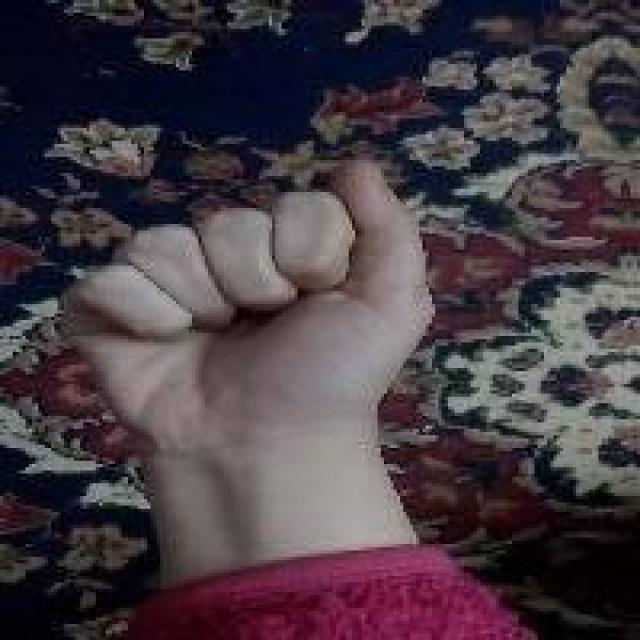A: (52, 152, 450, 443)
